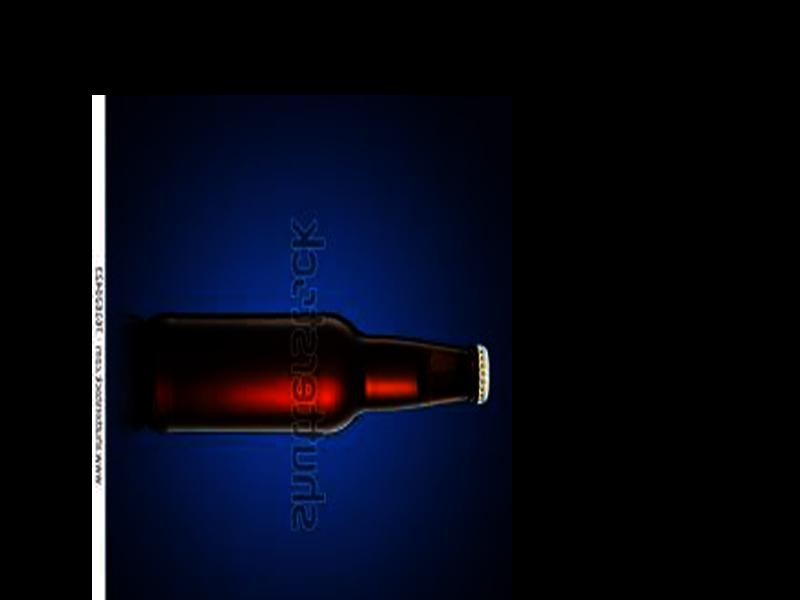Beer: (145, 312, 491, 434)
